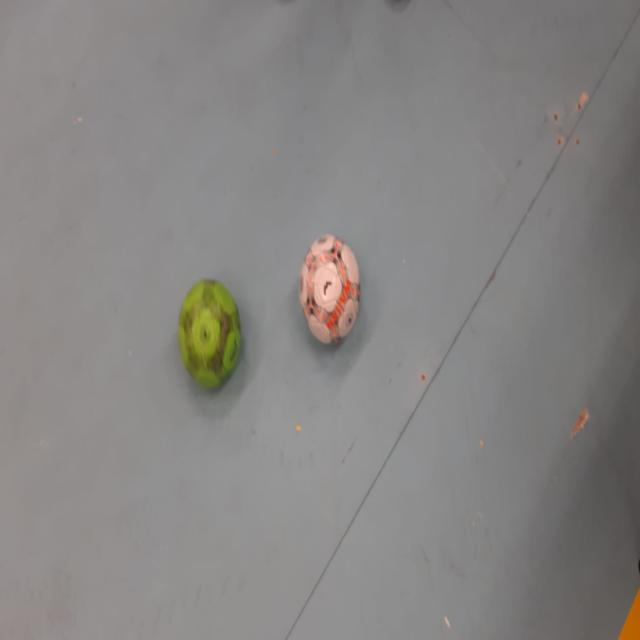ball: (300, 233, 361, 348), (180, 280, 243, 390)
